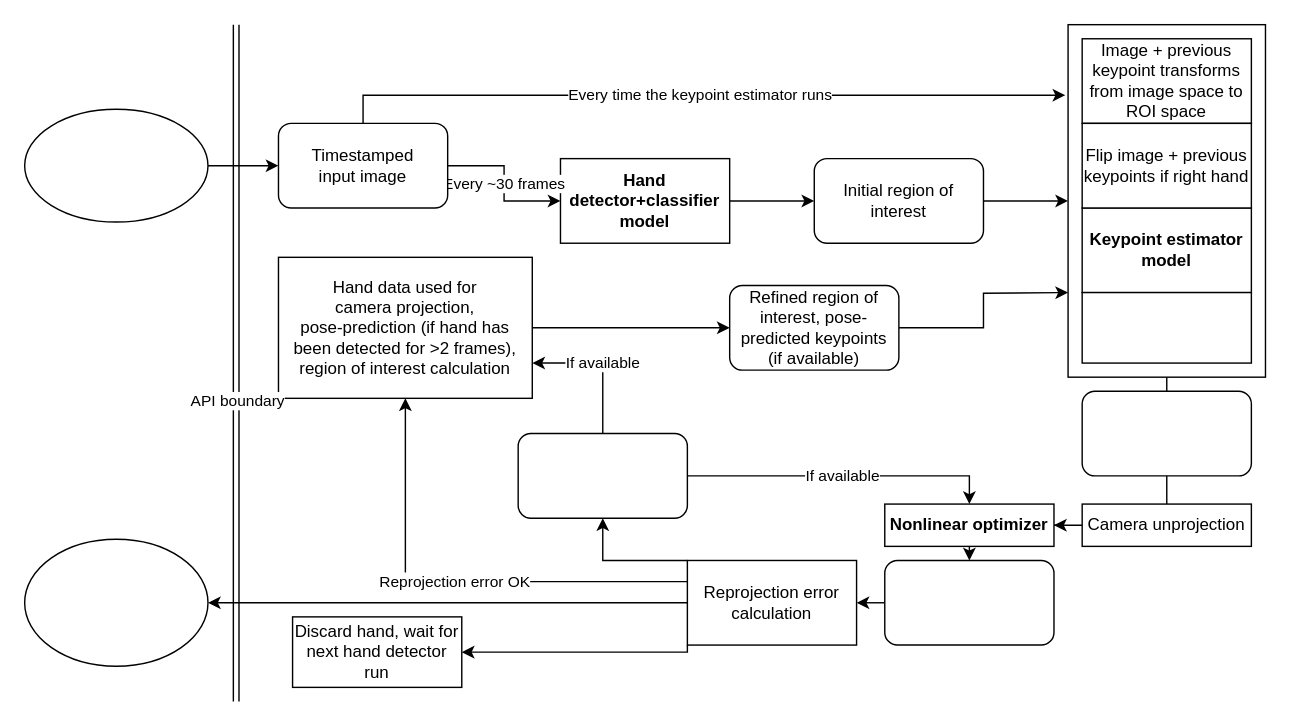
Image size: 1290x726. Some labels were removed from this diagram. The centre of each missing label's shape, as x and y in pixels:
21 image-space keypoint centers + variances: the point at 1166,433
26 hand joint positions and orientations: the point at 968,602
Consumer of hand-tracking provides input images: the point at 115,165
Consumer of hand-tracking recieves clean hand-tracking data: the point at 115,602
History of last 2 hand pose states: the point at 602,475
Model output interpreter: the point at 1166,327
